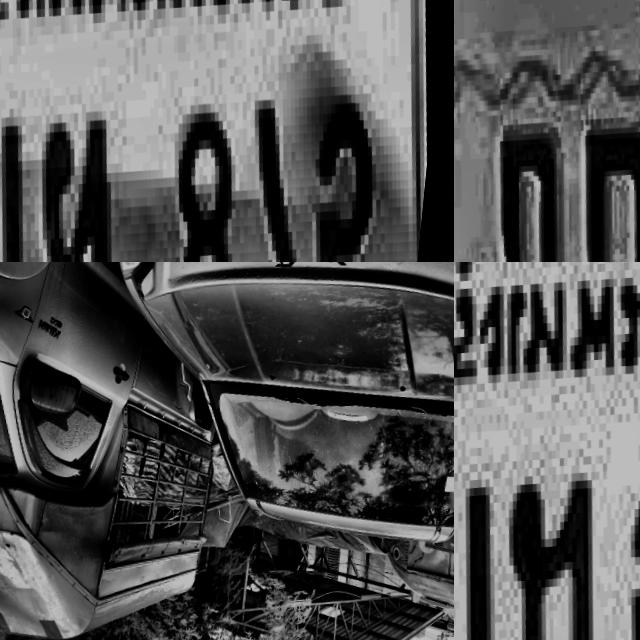license-plate: (0, 0, 454, 262), (454, 262, 640, 640), (454, 0, 640, 262)
